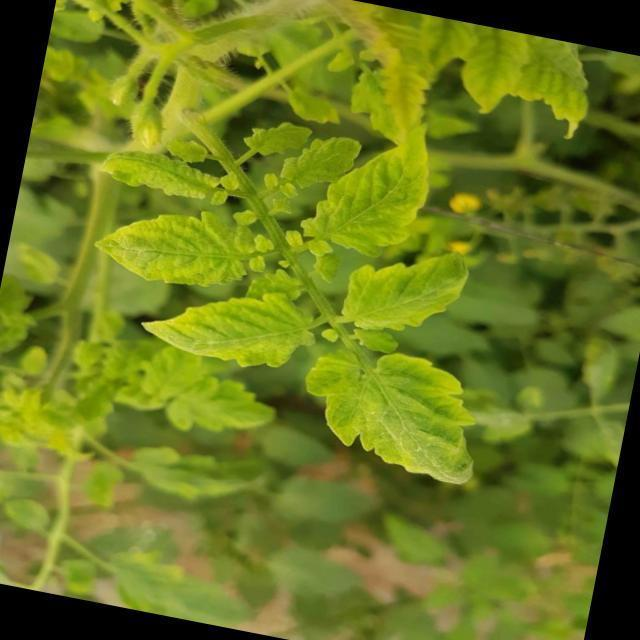Yellow Curl Virus: (294, 338, 501, 496), (302, 99, 448, 272), (131, 272, 330, 383), (80, 193, 266, 303), (334, 237, 482, 355), (74, 134, 220, 212), (520, 38, 613, 144), (447, 23, 533, 126), (267, 124, 365, 206), (232, 104, 308, 168)
